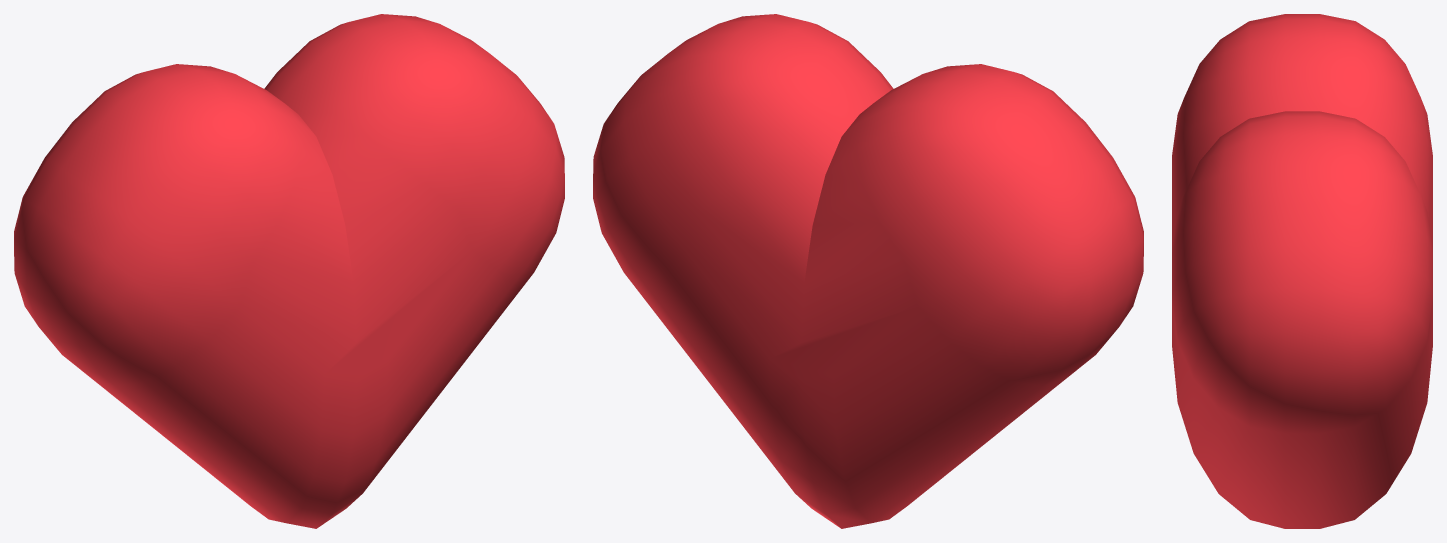
The model's file is heart_teamRed.glb.
3 views of the same model, side by side, from view 1: azimuth 30°, elevation 25°; view 2: azimuth 150°, elevation 25°; view 3: azimuth 270°, elevation 25° (orthographic). The views are drawn at different scales.
Parts seen in each view (by area): view 1: heart_teamRed; view 2: heart_teamRed; view 3: heart_teamRed.
Part boxes in pixels (x1=…): heart_teamRed: x1=14, y1=14, x2=564, y2=528; heart_teamRed: x1=593, y1=14, x2=1143, y2=528; heart_teamRed: x1=1172, y1=14, x2=1432, y2=528.
Bounding box in the file's own units: 0.324 × 0.2817 × 0.148.
